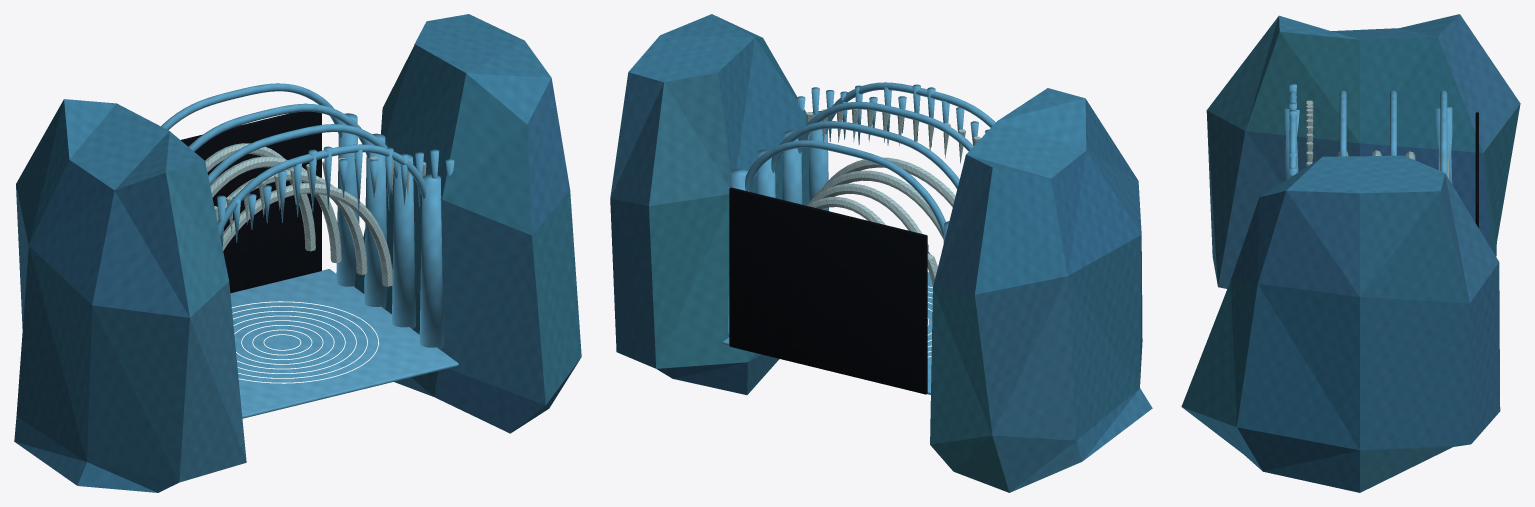
File: frost.glb
3 views of the same model, side by side, from view 1: azimuth 30°, elevation 25°; view 2: azimuth 150°, elevation 25°; view 3: azimuth 270°, elevation 25° (orthographic). The views are drawn at different scales.
Parts seen in each view (by area): view 1: Ice_Hall_fractured_embankment, Ice_Hall_fractured_embankment.001, frost_Glacial blue.005, frost_Recess shadow.005, Polish_frost_architectural_detail, frost_Moonlight.005; view 2: Ice_Hall_fractured_embankment, Ice_Hall_fractured_embankment.001, frost_Recess shadow.005, frost_Glacial blue.005, Polish_frost_architectural_detail; view 3: Ice_Hall_fractured_embankment.001, Ice_Hall_fractured_embankment, frost_Glacial blue.005, Polish_frost_architectural_detail, frost_Recess shadow.005.
Boxes of the visible parts, x1,y1,x2,y2 form: Ice_Hall_fractured_embankment: (14, 99, 246, 492); Ice_Hall_fractured_embankment.001: (354, 14, 581, 433); frost_Glacial blue.005: (161, 83, 458, 418); frost_Recess shadow.005: (181, 111, 321, 293); Polish_frost_architectural_detail: (205, 143, 426, 286); frost_Moonlight.005: (232, 301, 378, 383); Ice_Hall_fractured_embankment: (930, 88, 1152, 492); Ice_Hall_fractured_embankment.001: (610, 14, 809, 394); frost_Recess shadow.005: (729, 187, 927, 394); frost_Glacial blue.005: (722, 82, 995, 394); Polish_frost_architectural_detail: (806, 109, 980, 286); Ice_Hall_fractured_embankment.001: (1181, 155, 1500, 492); Ice_Hall_fractured_embankment: (1206, 14, 1520, 288); frost_Glacial blue.005: (1284, 83, 1452, 184); Polish_frost_architectural_detail: (1306, 100, 1448, 178); frost_Recess shadow.005: (1475, 112, 1478, 227).
Size of the model in its own units: 31.68 by 19.9 by 20.24.
4 materials, 3 textured.
